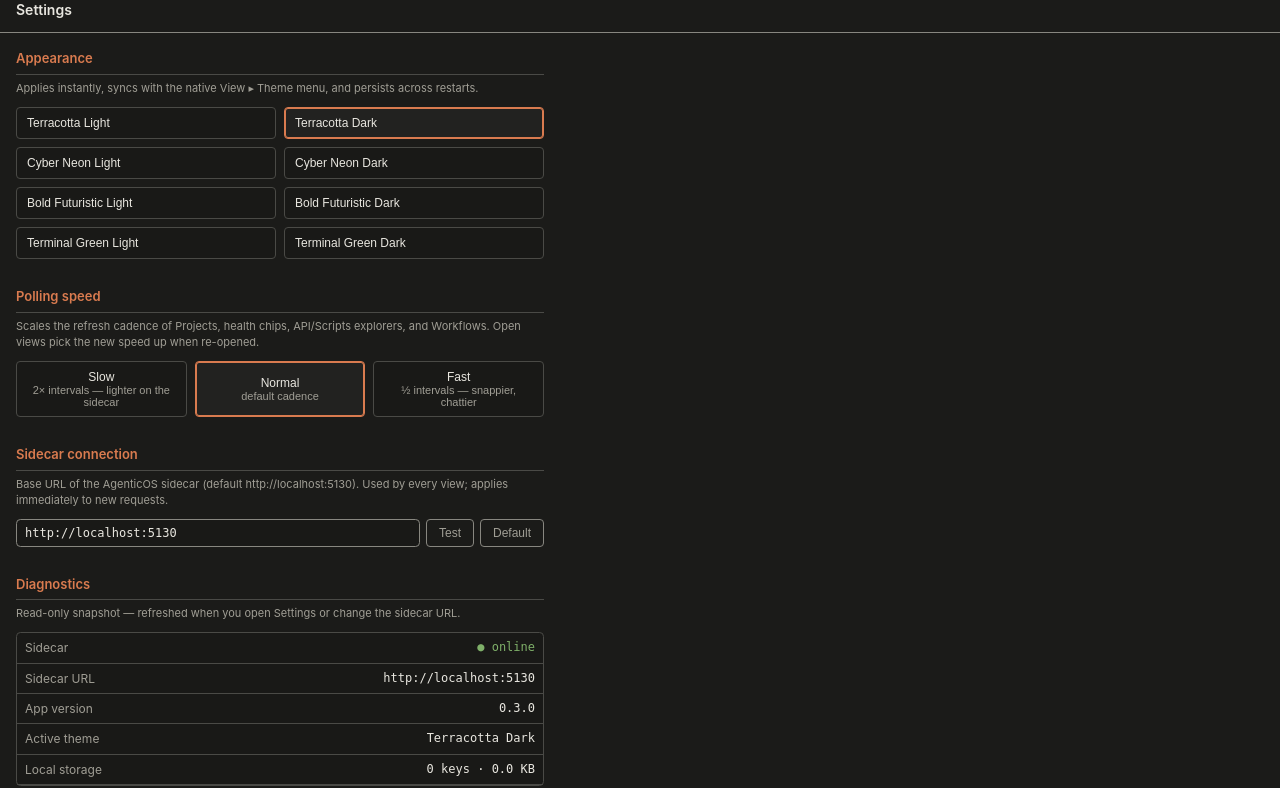
SettingsView Integration › should show the ✓ Saved indicator after a change
Step 1. Click the button with test id "polling-slow" → click(101, 389), box [16, 361, 187, 417]
(page scrolled)
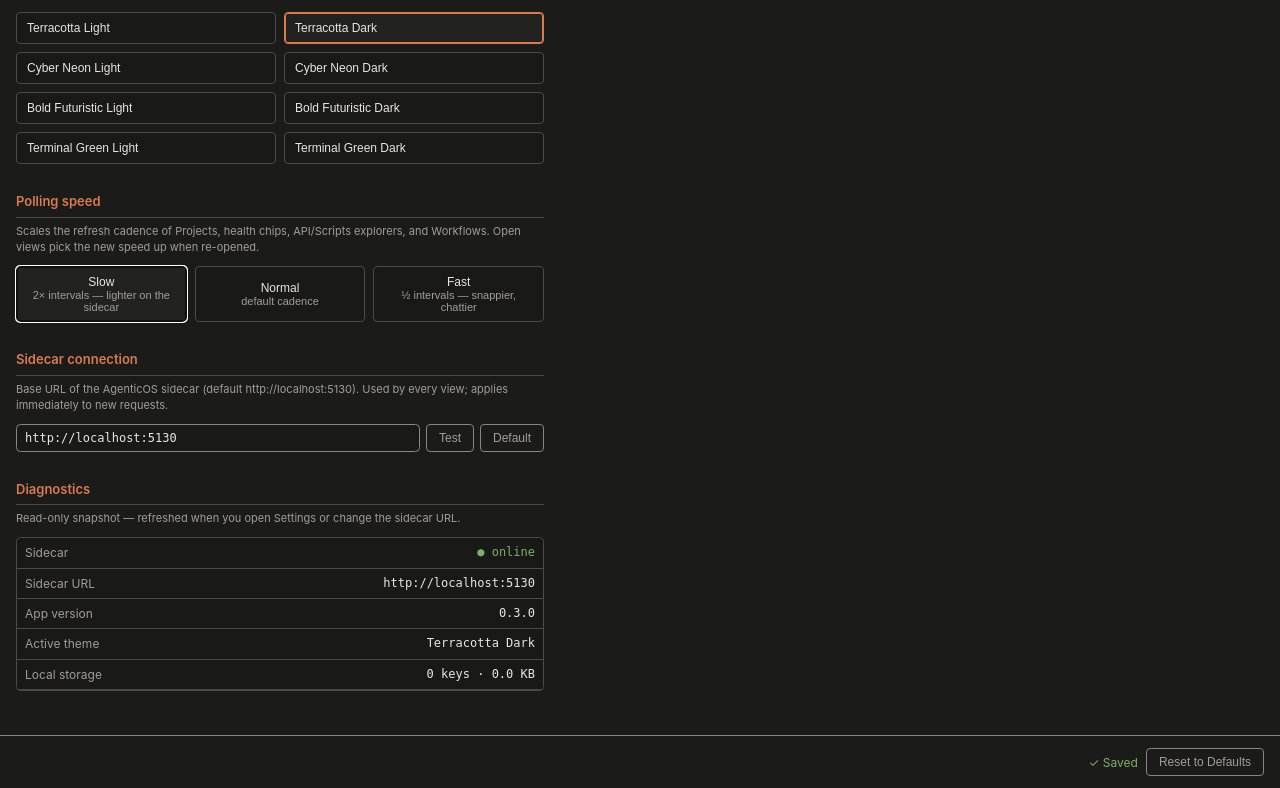
Check: the text "✓ Saved" is shown, box [1089, 754, 1138, 771]
